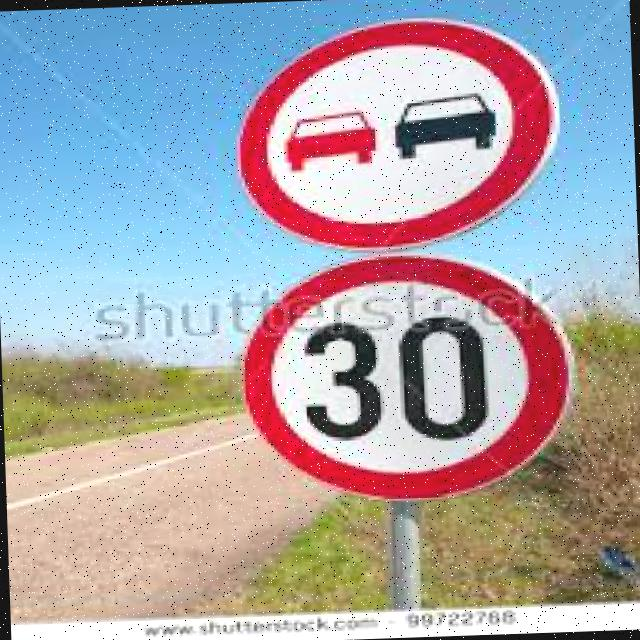Ograniczenie predkosci do 30: (240, 248, 593, 504)
